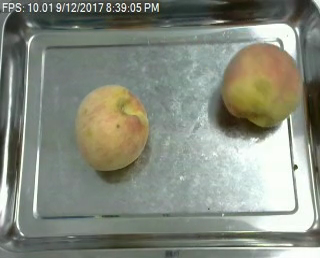Peach: (221, 41, 302, 127), (75, 83, 149, 171)
